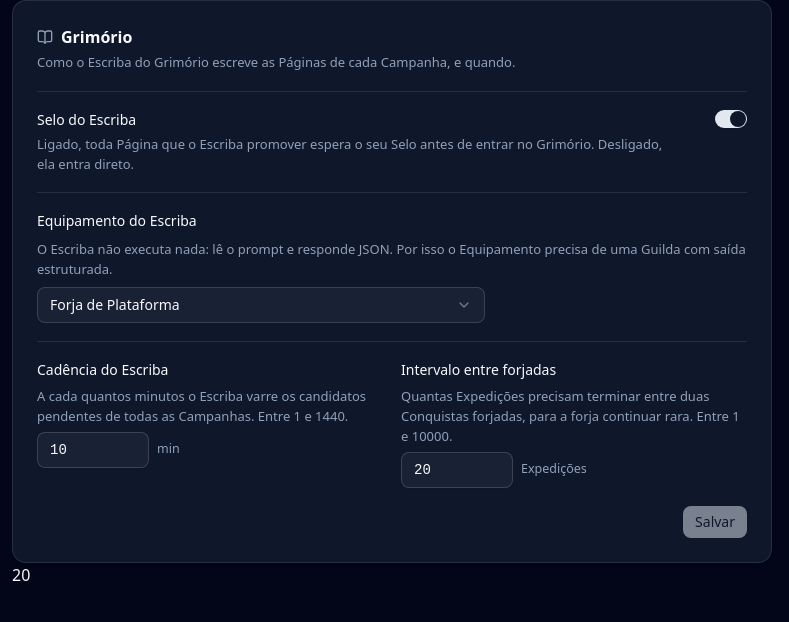
Test: bloco do Grimório em Settings › recusa uma cadência fora do intervalo antes de gravar
Step 1. Replace the text in the number field labelled "Cadência do Escriba" with "0" → [93, 450], box [37,432,149,468]
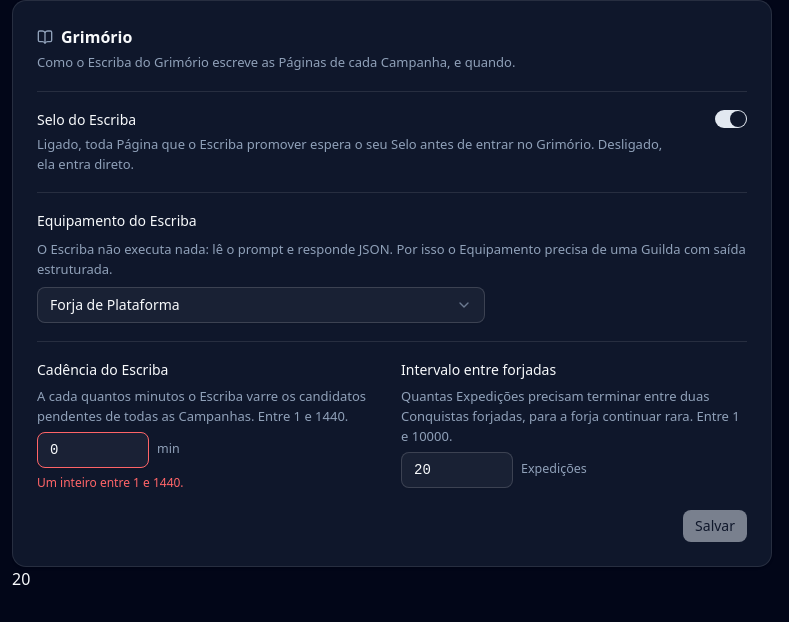
Expected: the button "Salvar" is disabled, [683,510,747,542]
Expected: the text "Um inteiro entre 1 e 1440." is shown, [37,474,184,490]
Step 2. Replace the text in the number field labelled "Intervalo entre forjadas" with "99999" → [457, 470], box [401,452,513,488]
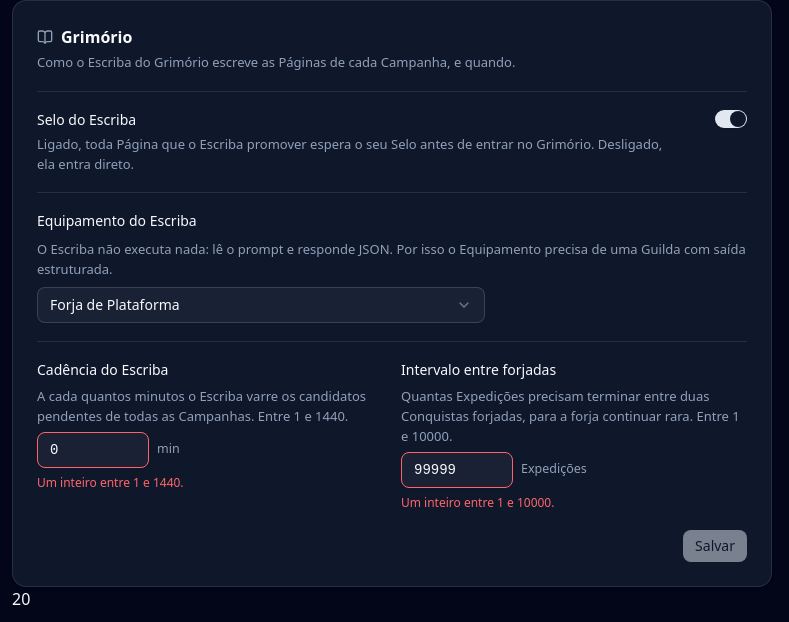
Expected: the text "Um inteiro entre 1 e 10000." is shown, [401,494,554,510]
Step 3. Replace the text in the number field labelled "Cadência do Escriba" with "30" → [93, 450], box [37,432,149,468]
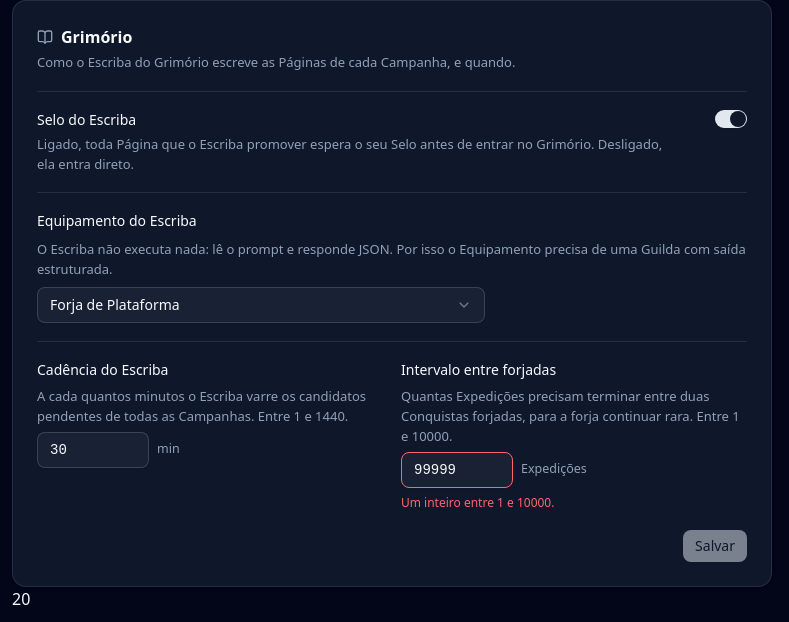
Step 4. Replace the text in the number field labelled "Intervalo entre forjadas" with "5" → [457, 470], box [401,452,513,488]
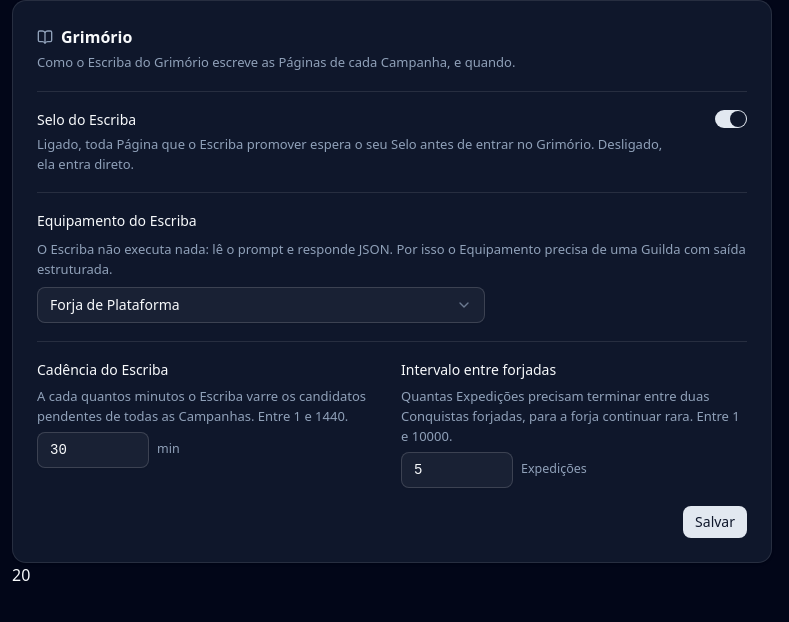
Expected: the button "Salvar" is enabled, [683,506,747,538]
